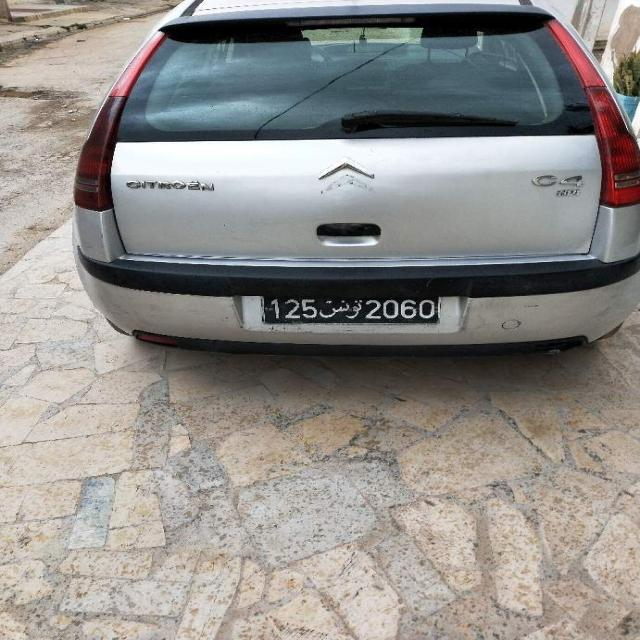LP: (258, 292, 443, 325)
